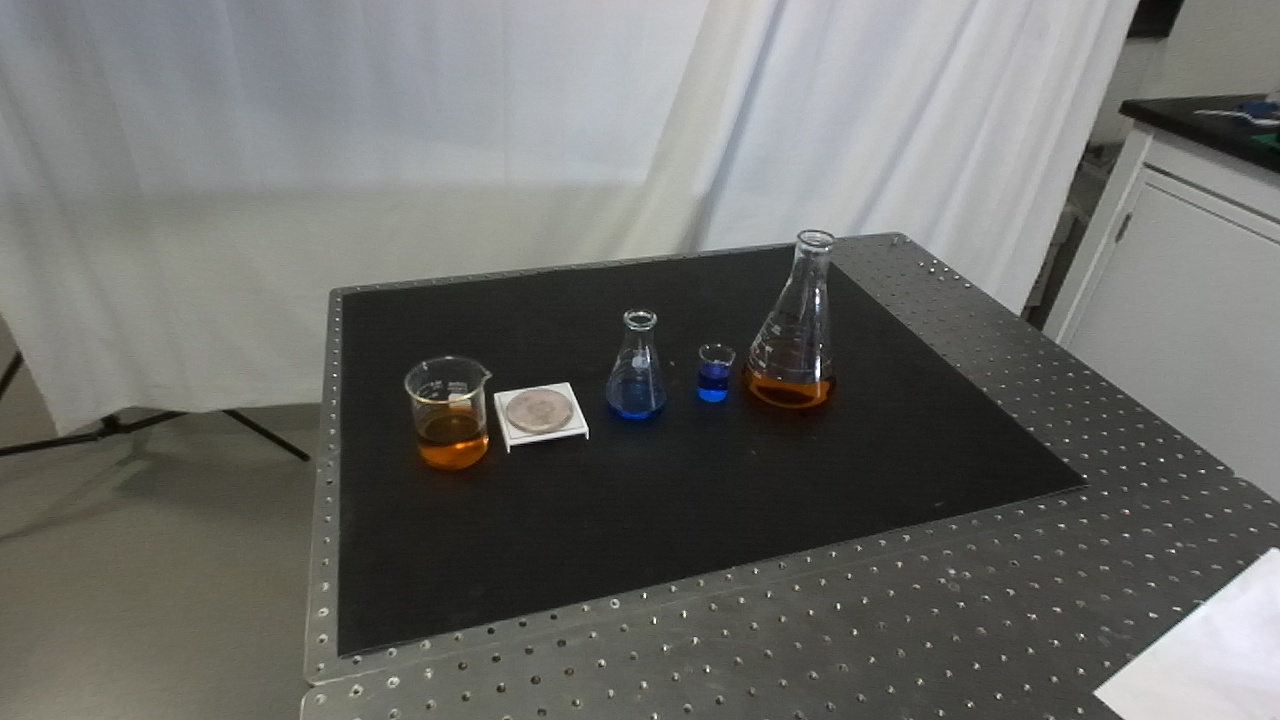glass: (745, 225, 838, 410), (403, 354, 489, 476), (603, 307, 673, 423), (693, 342, 737, 406)
plate: (491, 376, 591, 456)
